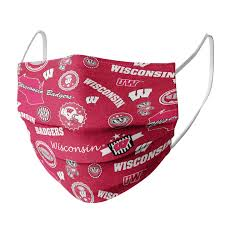cloth_mask: (15, 28, 215, 206)
